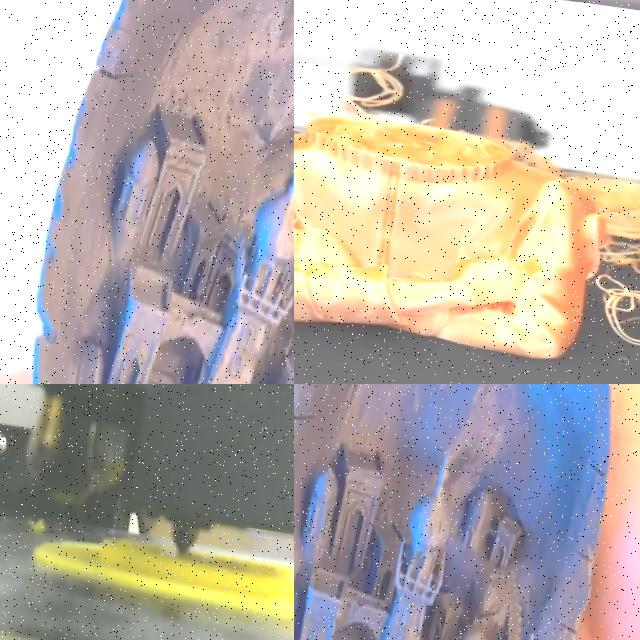spaghetti: (517, 137, 640, 368), (311, 52, 432, 147)
